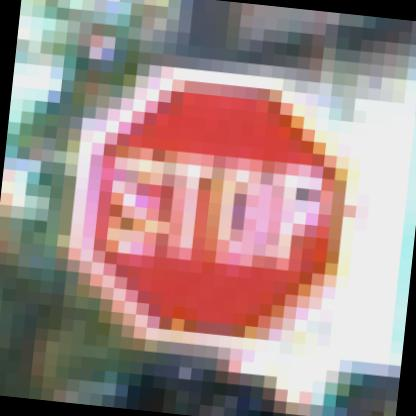stop: (19, 54, 375, 370)
